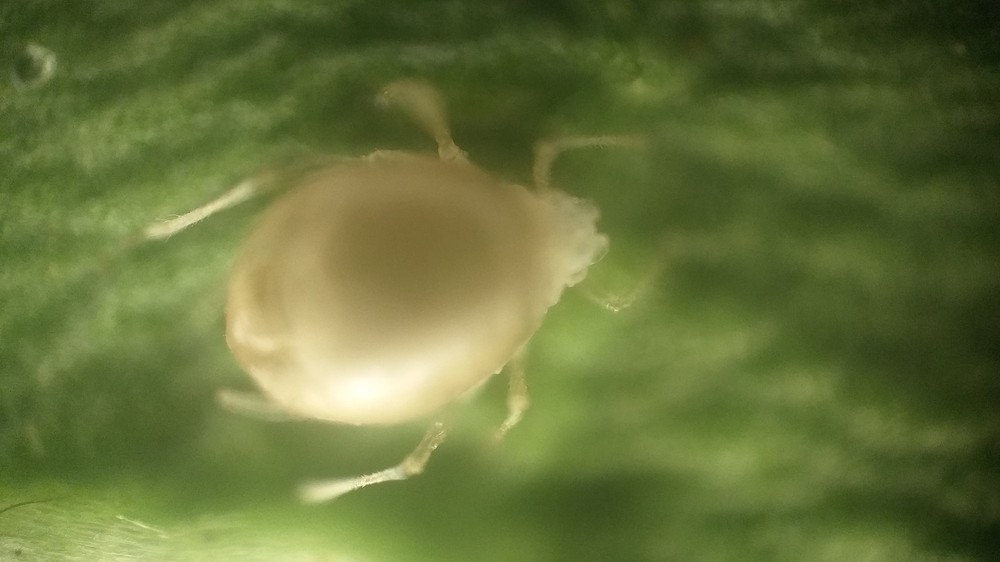Pulgon: (129, 73, 685, 521)
